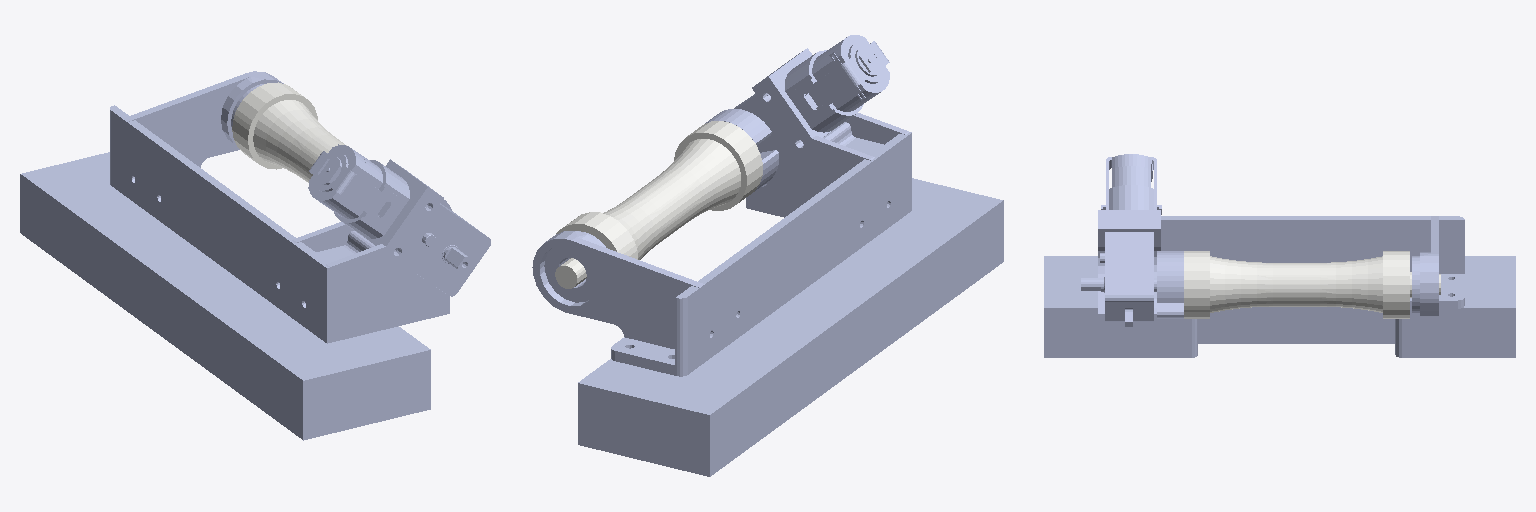
The robot description file, URDF, robot "DRIBBLERROS":
<?xml version="1.0" encoding="utf-8"?>
<!-- This URDF was automatically created by SolidWorks to URDF Exporter! Originally created by [author] ([email redacted]) 
     Commit Version: 1.6.0-1-g15f4949  Build Version: 1.6.7594.29634
     For more information, please see http://wiki.ros.org/sw_urdf_exporter -->
<robot
  name="DRIBBLERROS">
  <link
    name="LINK 1">
    <inertial>
      <origin
        xyz="-0.039108972179808 -0.0156873981640452 -0.0212134115768035"
        rpy="0 0 0" />
      <mass
        value="0.223014153118537" />
      <inertia
        ixx="0.000564960837143496"
        ixy="7.32257824978648E-06"
        ixz="1.51072835726652E-07"
        iyy="4.51815305981681E-05"
        iyz="1.20191559903201E-06"
        izz="0.000588224398915661" />
    </inertial>
    <visual>
      <origin
        xyz="0 0 0"
        rpy="0 0 0" />
      <geometry>
        <mesh
          filename="package://DRIBBLERROS/meshes/LINK 1.STL" />
      </geometry>
      <material
        name="">
        <color
          rgba="0.792156862745098 0.819607843137255 0.933333333333333 1" />
      </material>
    </visual>
    <collision>
      <origin
        xyz="0 0 0"
        rpy="0 0 0" />
      <geometry>
        <mesh
          filename="package://DRIBBLERROS/meshes/LINK 1.STL" />
      </geometry>
    </collision>
  </link>
  <link
    name="LINK2">
    <inertial>
      <origin
        xyz="-0.00998289883991357 0.0685351142159854 -0.0606843614609578"
        rpy="0 0 0" />
      <mass
        value="0.0283395356791652" />
      <inertia
        ixx="2.49597682621904E-05"
        ixy="1.13821204870387E-21"
        ixz="-1.4979205897638E-36"
        iyy="1.62525371251671E-06"
        iyz="3.07250202503999E-19"
        izz="2.49597682621904E-05" />
    </inertial>
    <visual>
      <origin
        xyz="0 0 0"
        rpy="0 0 0" />
      <geometry>
        <mesh
          filename="package://DRIBBLERROS/meshes/LINK2.STL" />
      </geometry>
      <material
        name="">
        <color
          rgba="0.964705882352941 0.964705882352941 0.952941176470588 1" />
      </material>
    </visual>
    <collision>
      <origin
        xyz="0 0 0"
        rpy="0 0 0" />
      <geometry>
        <mesh
          filename="package://DRIBBLERROS/meshes/LINK2.STL" />
      </geometry>
    </collision>
  </link>
  <joint
    name="JOINT1"
    type="fixed">
    <origin
      xyz="0.0099829 -0.067124 0.060684"
      rpy="0 0 0" />
    <parent
      link="LINK 1" />
    <child
      link="LINK2" />
    <axis
      xyz="0 0 0" />
  </joint>
</robot>

--- Facts derived from the render (not from the file) ---
Views: 3 orthographic renders of the robot side by side, from view 1: azimuth 30°, elevation 25°; view 2: azimuth 150°, elevation 25°; view 3: azimuth 270°, elevation 25°.
Model DRIBBLERROS with 2 links and 1 joints (1 fixed), rooted at LINK 1, posed all joints at 0.
Links seen in each view (by area): view 1: LINK 1, LINK2; view 2: LINK 1, LINK2; view 3: LINK 1, LINK2.
Link boxes in pixels (bbox=[...]): LINK 1: bbox=[20, 71, 490, 440]; LINK2: bbox=[232, 82, 346, 182]; LINK 1: bbox=[532, 35, 1003, 476]; LINK2: bbox=[555, 121, 762, 288]; LINK 1: bbox=[1044, 154, 1515, 357]; LINK2: bbox=[1184, 251, 1440, 318].
Size in the robot's own frame: 0.0826 by 0.1805 by 0.0812 metres.
Meshes: 2 distinct files referenced, 2 mesh visuals loaded (2 binary STL).